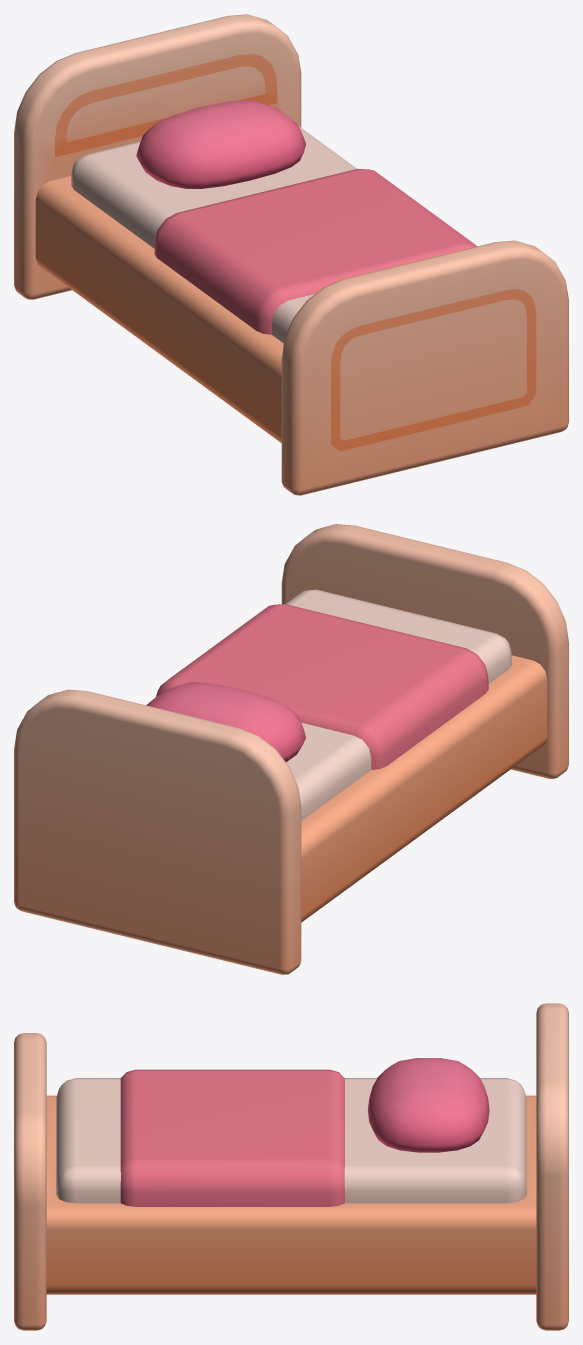
File: Bed_10.glb
3 renders of one model, top to bottom at view 1: azimuth 30°, elevation 25°; view 2: azimuth 150°, elevation 25°; view 3: azimuth 270°, elevation 25°, orthographic. The views are drawn at different scales.
Visible parts, largest first — view 1: Bed_10; view 2: Bed_10; view 3: Bed_10.
Part boxes in pixels (x1,y1,x2,y2): Bed_10: (14,14,568,495); Bed_10: (14,524,568,974); Bed_10: (14,1003,568,1330).
Bounding box in the file's own units: 0.96 × 0.75 × 1.7.
1 material, 1 textured.
